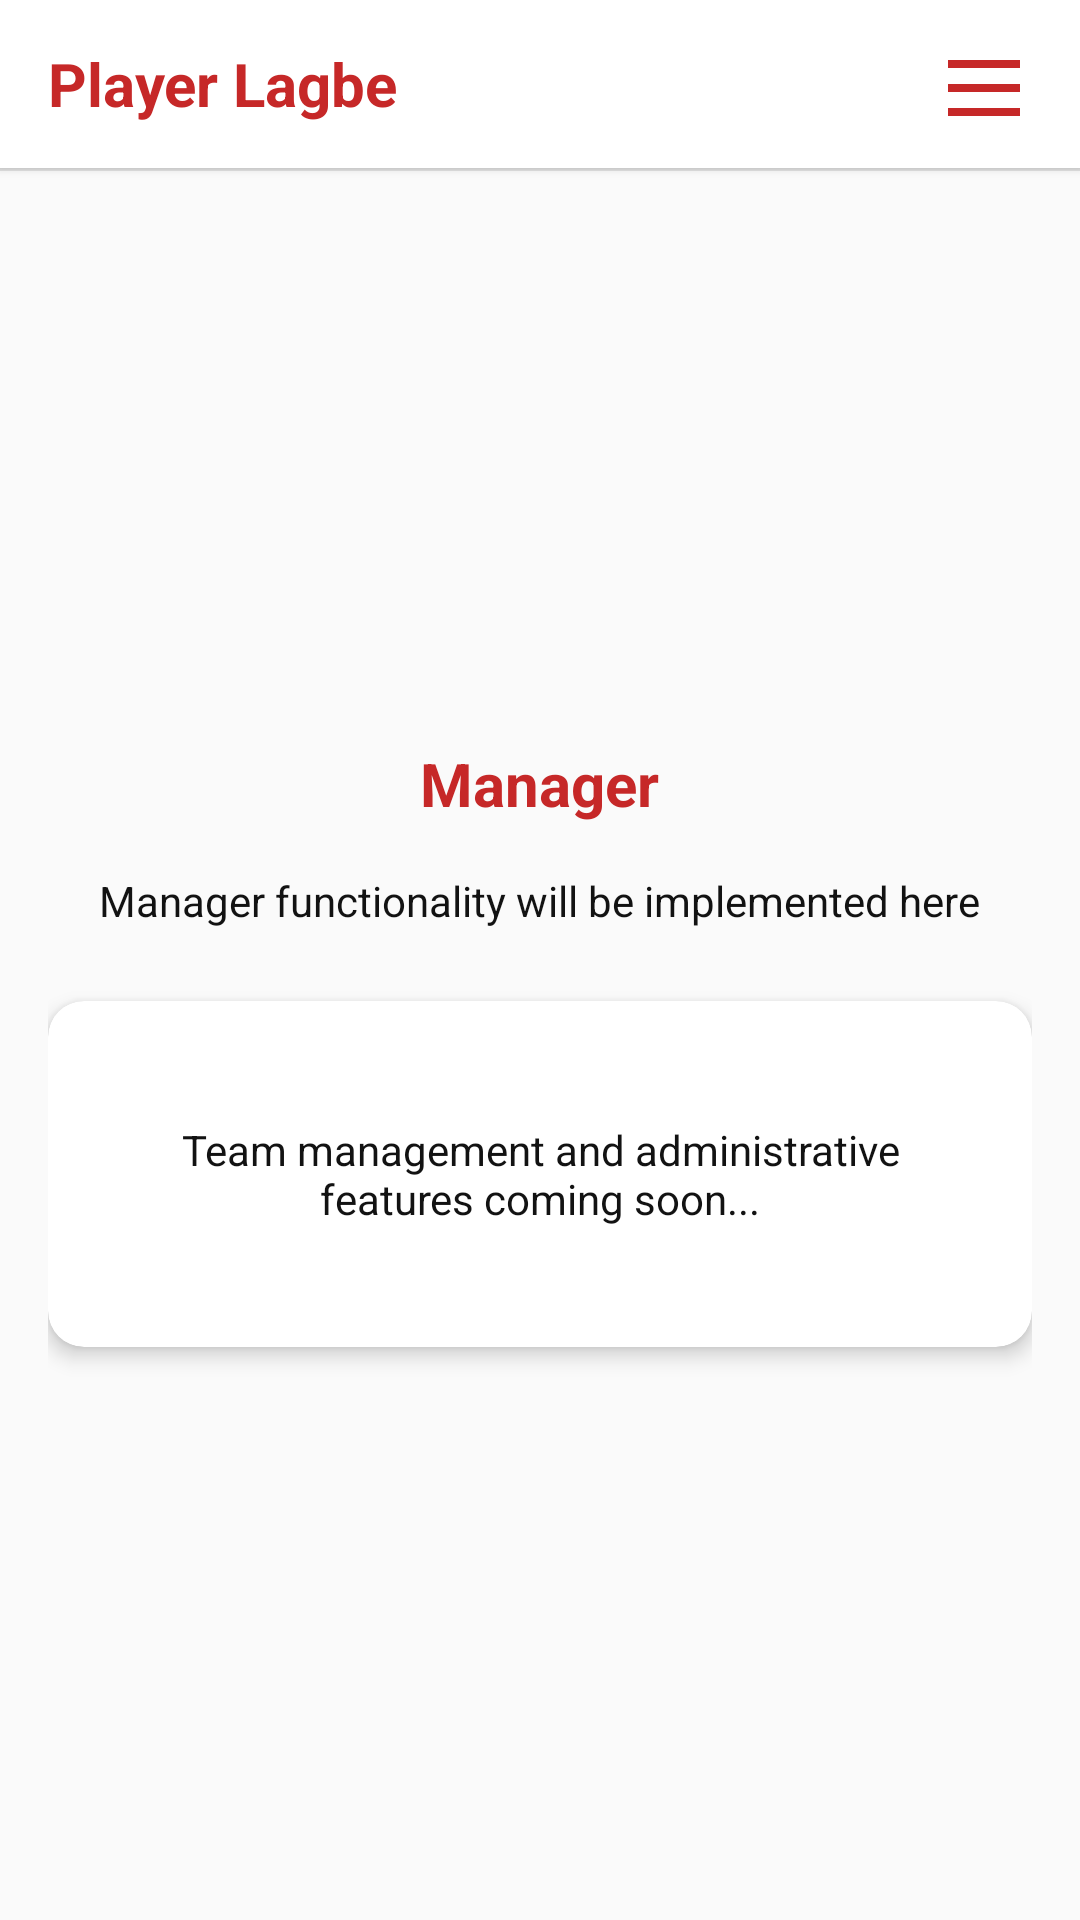

Screen size 1080px×1920px. Icon name, then its center in pixels as (x=x, y=y):
Menu: (x=984, y=88)
